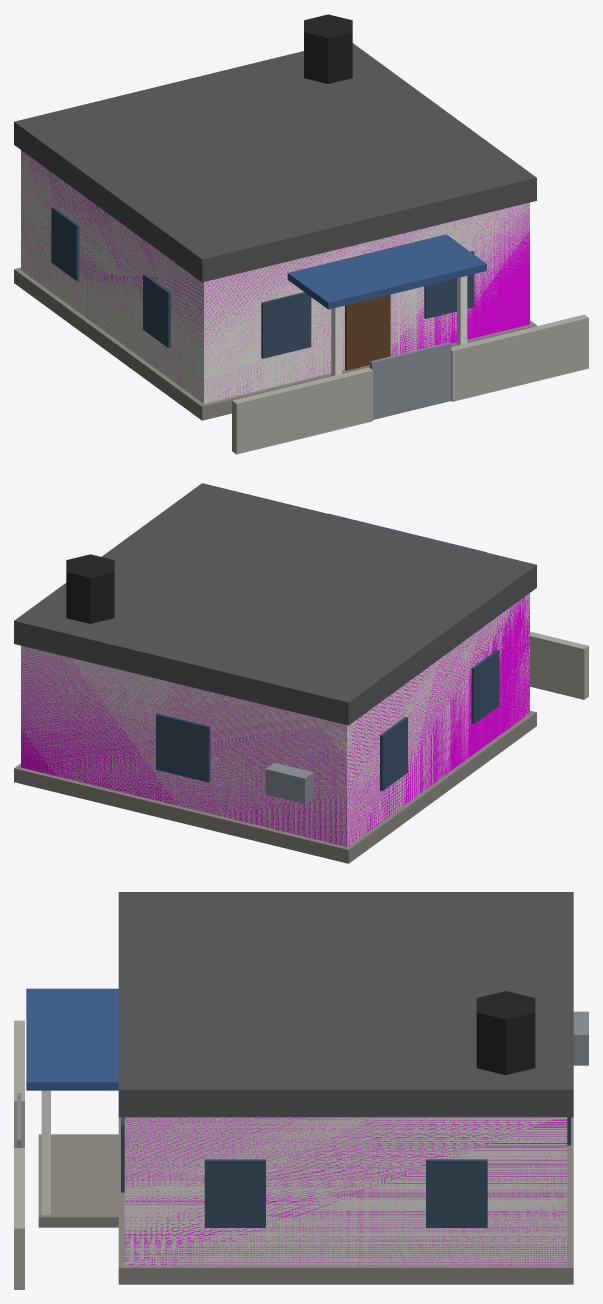
Rendered from House_1S_07.glb.
3 views of the same model, one above another, from view 1: azimuth 30°, elevation 25°; view 2: azimuth 150°, elevation 25°; view 3: azimuth 270°, elevation 25° (orthographic). The views are drawn at different scales.
Visible parts, largest first — view 1: House_1S_07, House_1S_07_COL; view 2: House_1S_07, House_1S_07_COL; view 3: House_1S_07, House_1S_07_COL.
Boxes of the visible parts, x1,y1,x2,y2 form: House_1S_07: (14,14,588,454); House_1S_07_COL: (21,151,529,400); House_1S_07: (14,483,588,863); House_1S_07_COL: (21,593,529,846); House_1S_07: (14,892,588,1289); House_1S_07_COL: (124,1117,567,1265).
Bounding box in the file's own units: 8 × 4.5 × 9.35.
